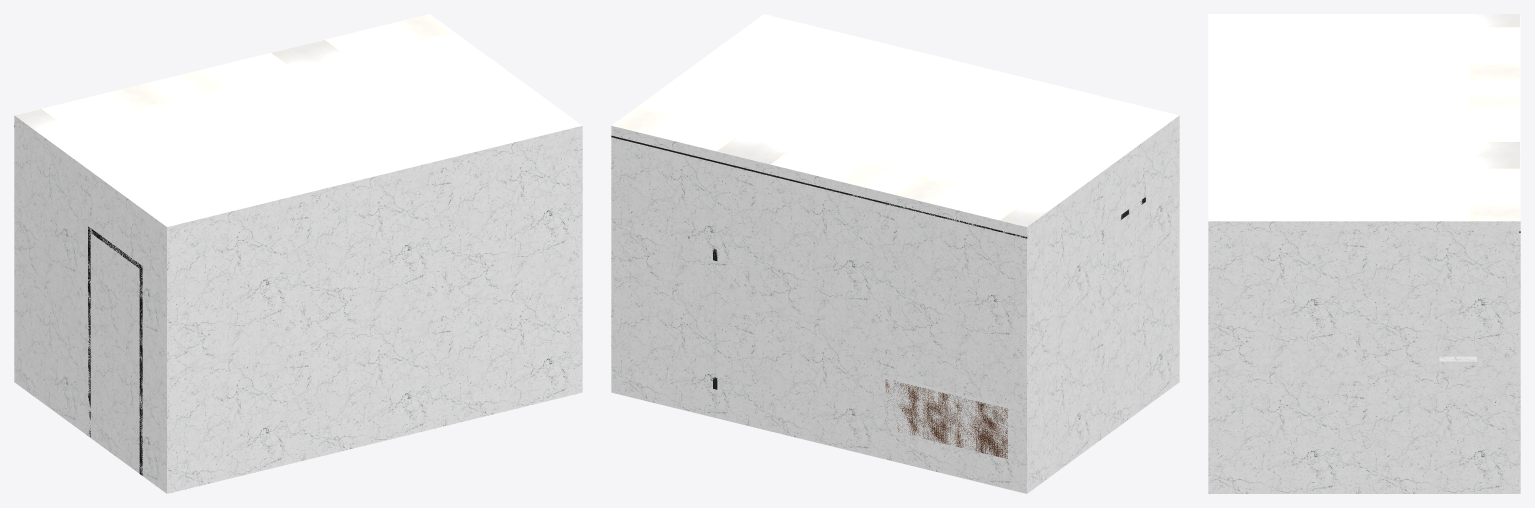
File: room-preview.glb
The picture shows the model from 3 angles, left to right: view 1: azimuth 30°, elevation 25°; view 2: azimuth 150°, elevation 25°; view 3: azimuth 270°, elevation 25°; orthographic projection. The views are drawn at different scales.
Visible parts, largest first — view 1: Shell_Front Wall, Shell_Ceiling, Shell_Left Wall, Door Frame; view 2: Shell_Back Wall, Shell_Ceiling, Shell_Left Wall, LM_Vanity, Shadow Gap; view 3: Shell_Right Wall, Shell_Ceiling, LM_Niche.
Boxes of the visible parts, left/top/right/bottom form: Shell_Front Wall: left=167, top=126, right=582, bottom=493; Shell_Ceiling: left=15, top=14, right=582, bottom=226; Shell_Left Wall: left=14, top=115, right=166, bottom=493; Door Frame: left=88, top=226, right=142, bottom=475; Shell_Back Wall: left=611, top=126, right=1026, bottom=493; Shell_Ceiling: left=611, top=14, right=1178, bottom=226; Shell_Left Wall: left=1027, top=115, right=1179, bottom=493; LM_Vanity: left=882, top=375, right=1010, bottom=458; Shadow Gap: left=611, top=135, right=1027, bottom=238; Shell_Right Wall: left=1208, top=221, right=1520, bottom=493; Shell_Ceiling: left=1208, top=14, right=1520, bottom=221; LM_Niche: left=1439, top=356, right=1476, bottom=403.
Size of the model in its own units: 4.51 by 2.7 by 2.8.
Materials: 45 (16 with a texture image).
